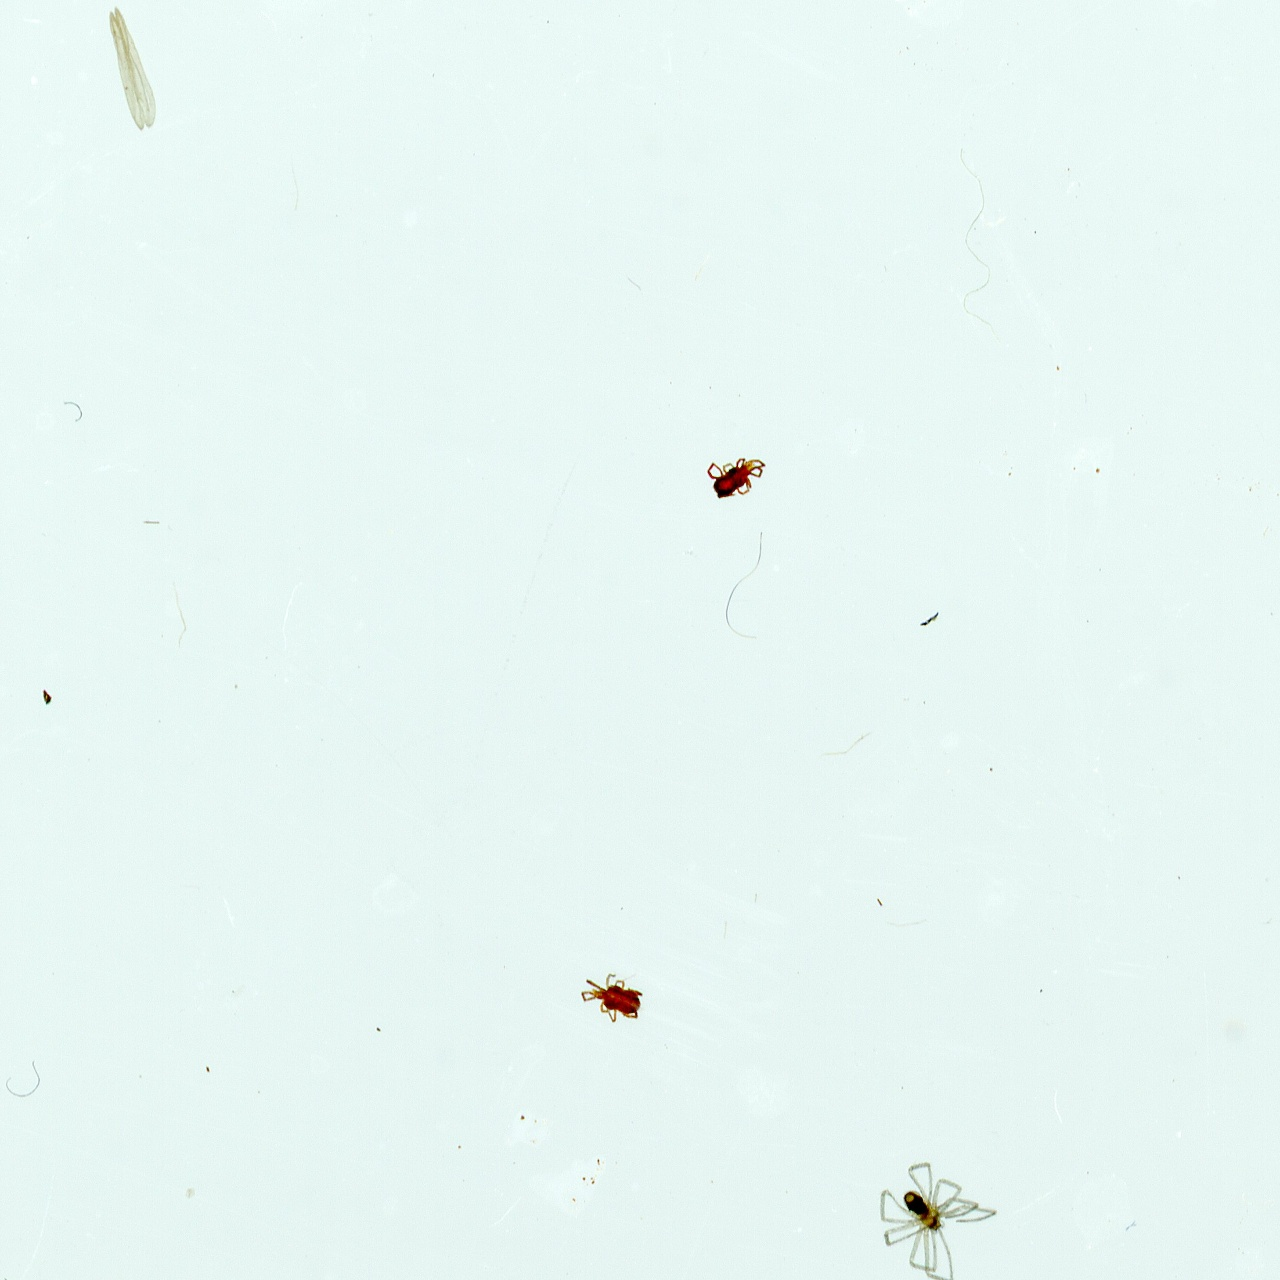arthropod: (878, 1160, 999, 1280), (574, 970, 648, 1026), (703, 455, 771, 502)
